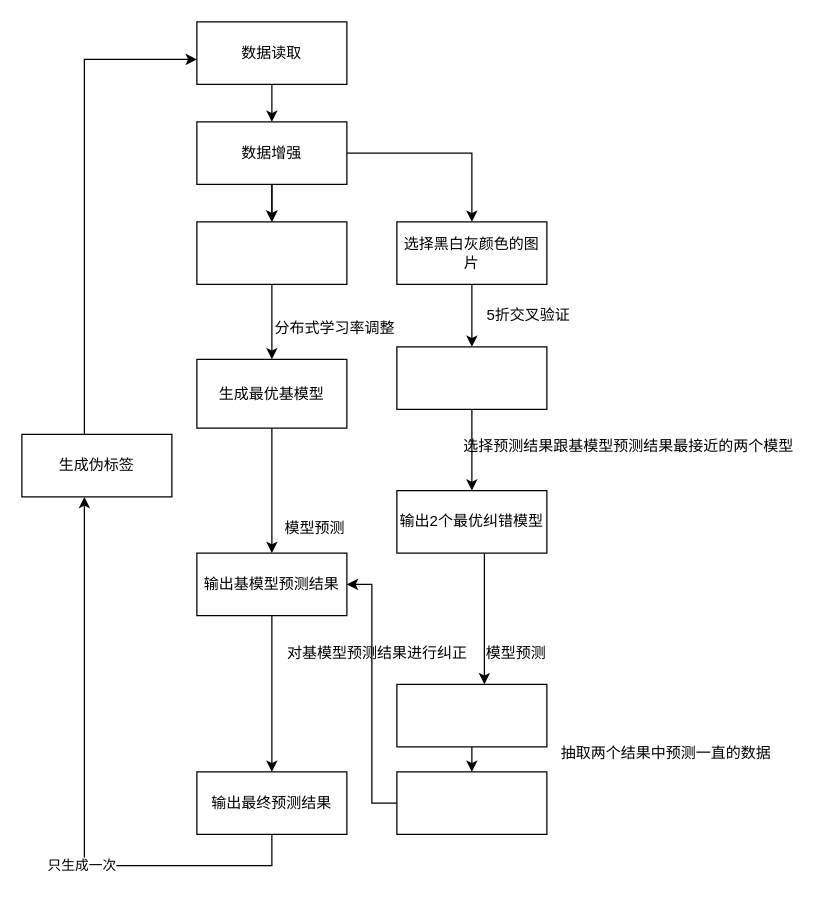
The diagram is 831 pixels wide and 898 high, and some of its shapes have lost their labels. The centre of each missing label's shape, as x and y in pixels:
训练5个纠错模型: (x=471, y=377)
训练基模型: (x=271, y=252)
输出2个黑灰白预测结果: (x=471, y=715)
输出灰黑白预测结果: (x=471, y=802)
